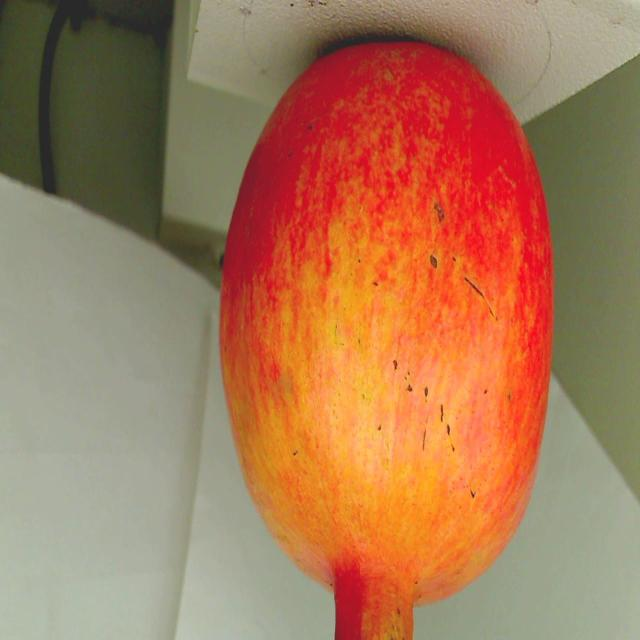pomegranate: (206, 24, 571, 640)
